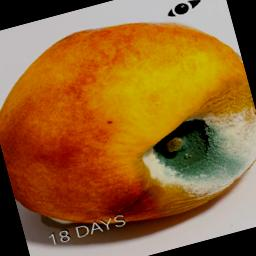Peach Rotten: (0, 0, 256, 252)
